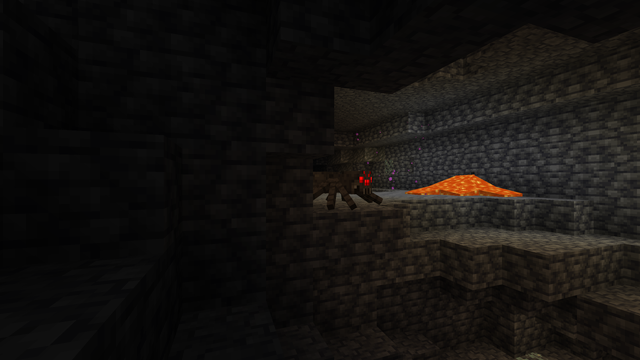araignees: (316, 165, 382, 210)
